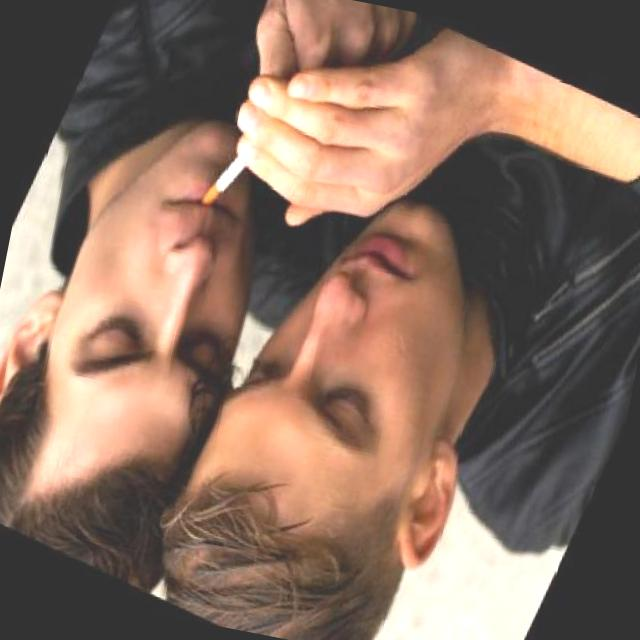smoke: (194, 144, 252, 218)
